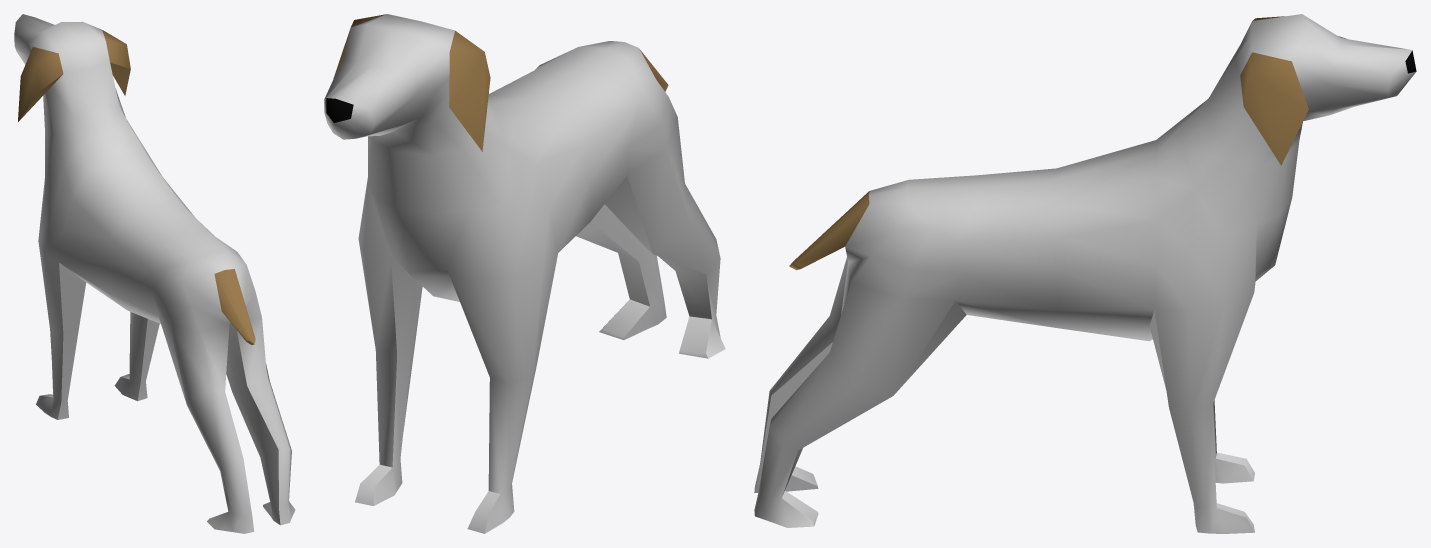
The model's file is Dog.FBX.
3 renders of one model, left to right at view 1: azimuth 30°, elevation 25°; view 2: azimuth 150°, elevation 25°; view 3: azimuth 270°, elevation 25°, orthographic. The views are drawn at different scales.
Visible parts, largest first — view 1: Dog; view 2: Dog; view 3: Dog.
Part boxes in pixels (x1,y1,x2,y2): Dog: [14, 14, 295, 533]; Dog: [324, 14, 725, 533]; Dog: [754, 14, 1416, 533].
Size of the model in its own units: 26.84 by 73.95 by 92.51.
Materials: 1 (1 with a texture image).
